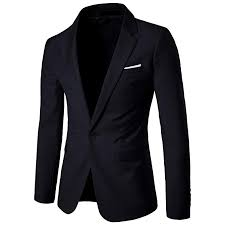F_M_suit jacket: (31, 1, 200, 225)
